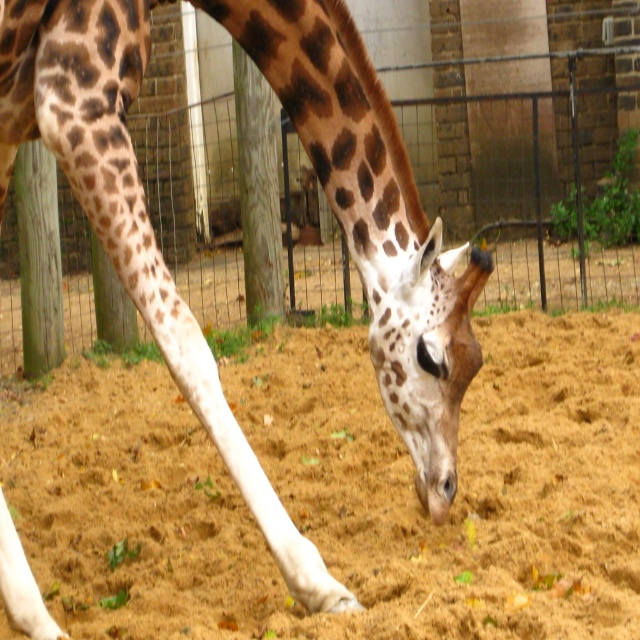Giraffe: (0, 0, 494, 639)
